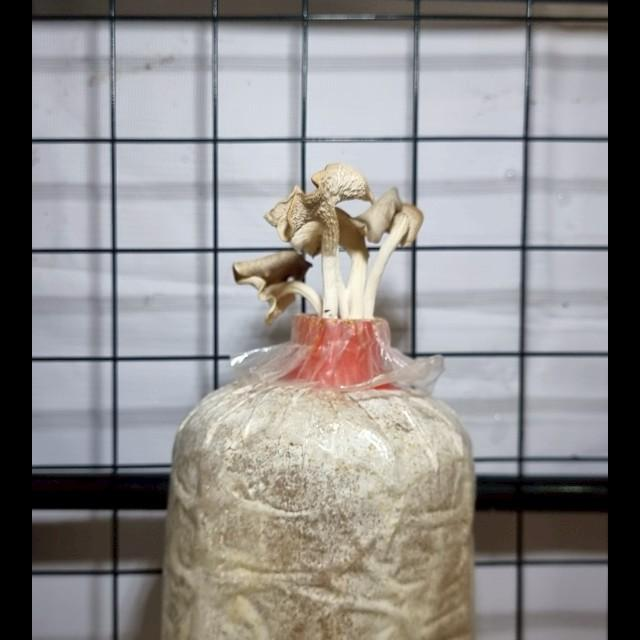abnormal: (292, 154, 370, 356), (206, 242, 358, 328), (358, 190, 434, 352), (348, 188, 402, 358)
